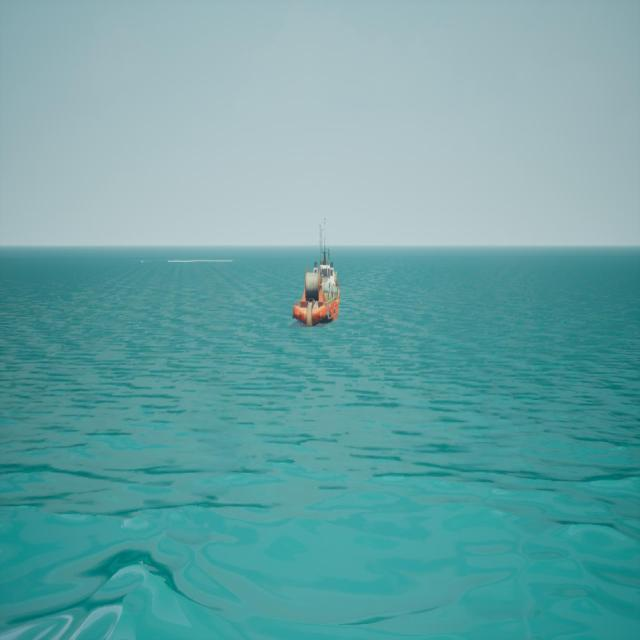tug boat: (295, 218, 342, 327)
